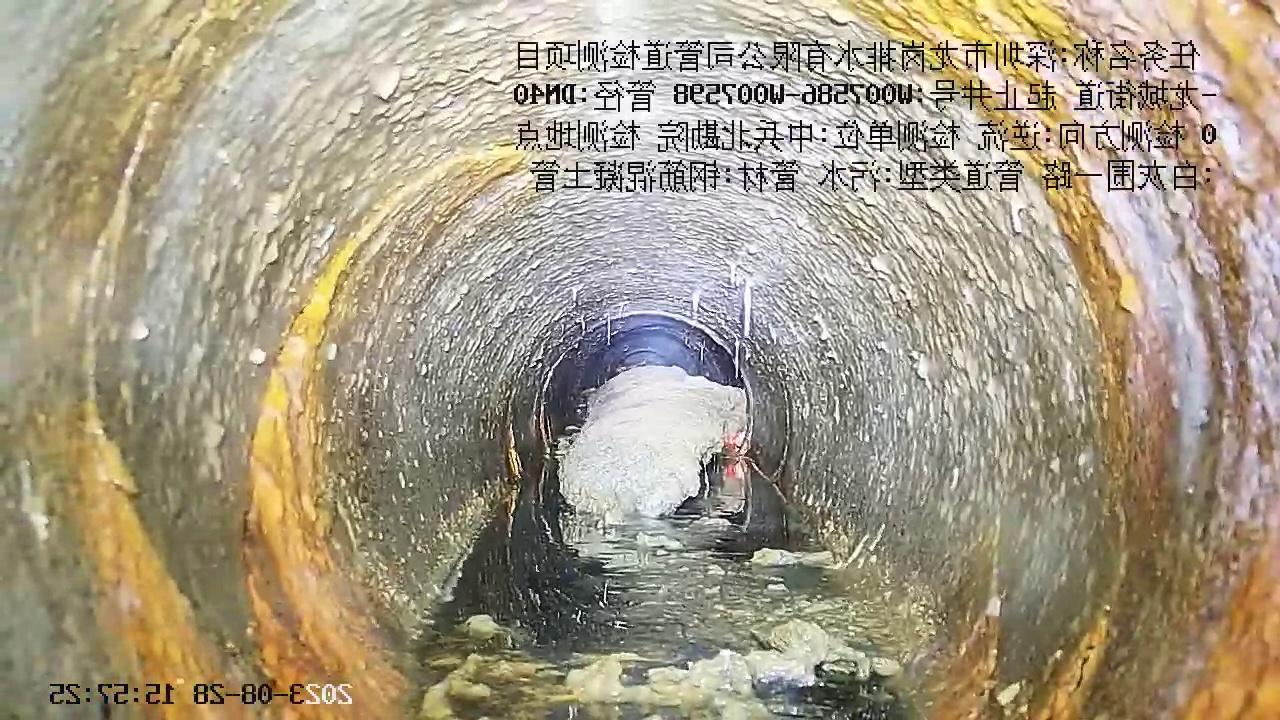ZAW: (562, 365, 747, 524)
